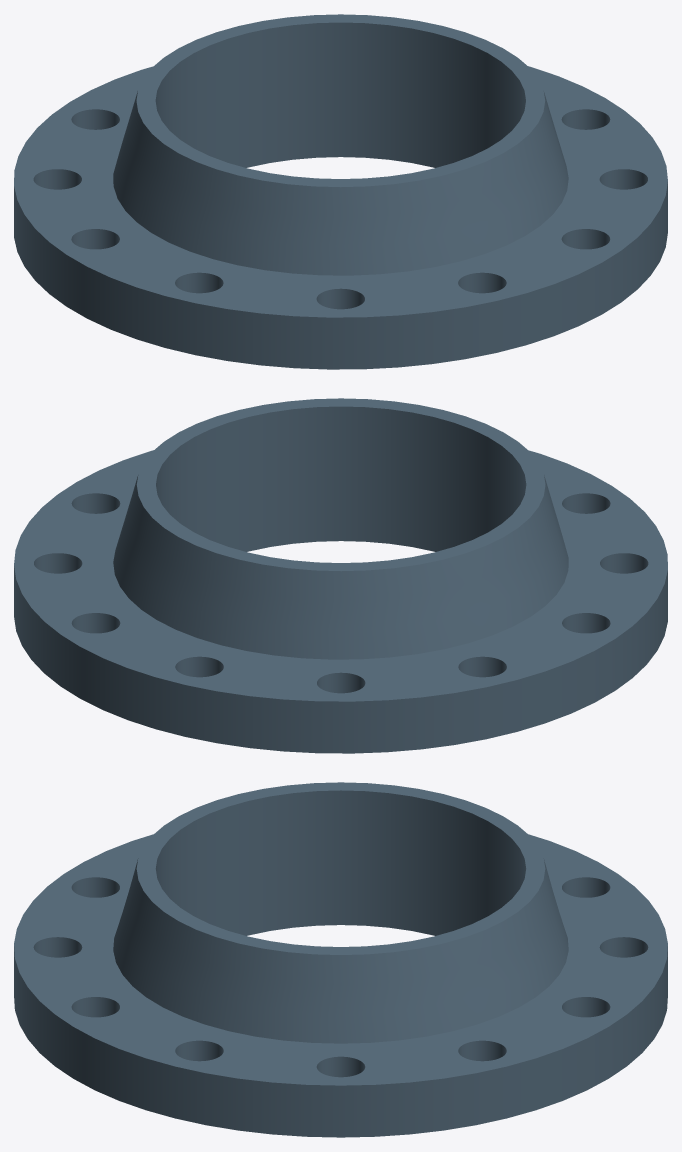
The model's file is flanec-vorotnikovyj-DN250-PN40.glb.
3 renders of one model, top to bottom at view 1: azimuth 30°, elevation 25°; view 2: azimuth 150°, elevation 25°; view 3: azimuth 270°, elevation 25°, orthographic.
Visible parts, largest first — view 1: Open CASCADE STEP translator 7.9 96; view 2: Open CASCADE STEP translator 7.9 96; view 3: Open CASCADE STEP translator 7.9 96.
Part boxes in pixels (x1,y1,x2,y2): Open CASCADE STEP translator 7.9 96: (14, 14, 667, 369); Open CASCADE STEP translator 7.9 96: (14, 398, 667, 753); Open CASCADE STEP translator 7.9 96: (14, 782, 667, 1137).
Bounding box in the file's own units: 445 × 101 × 445.
